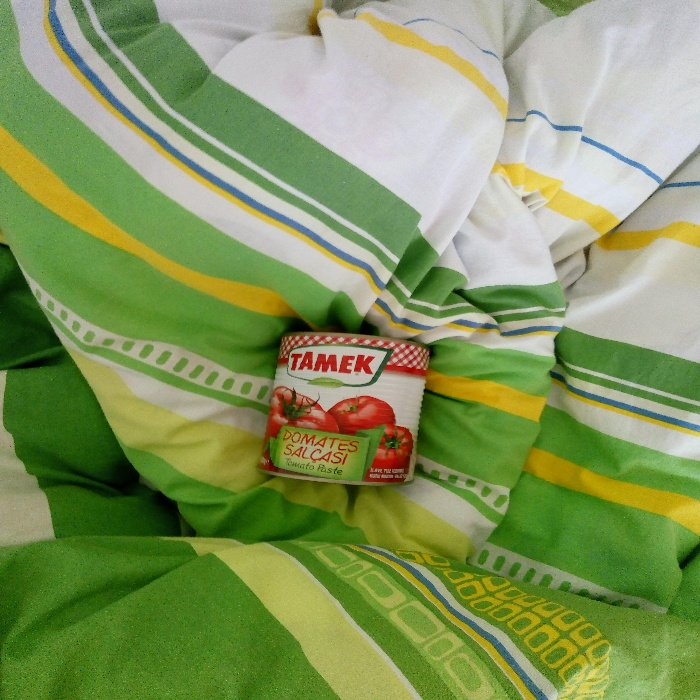salca: (242, 311, 445, 497)
